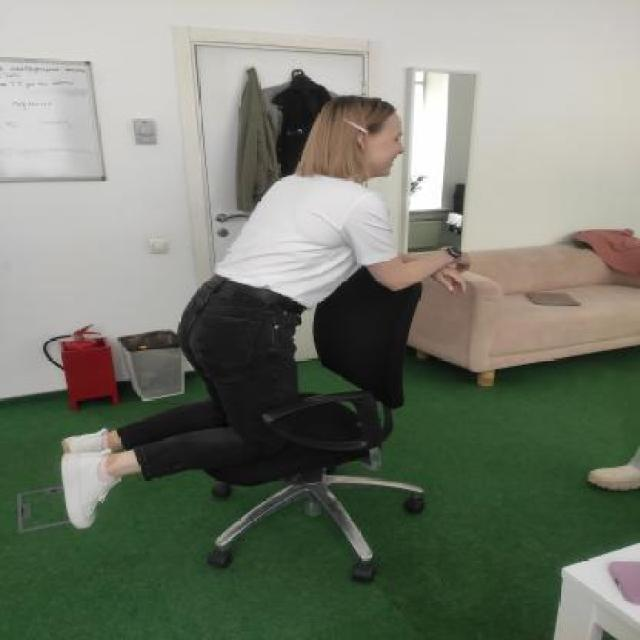chair: (182, 251, 450, 580)
